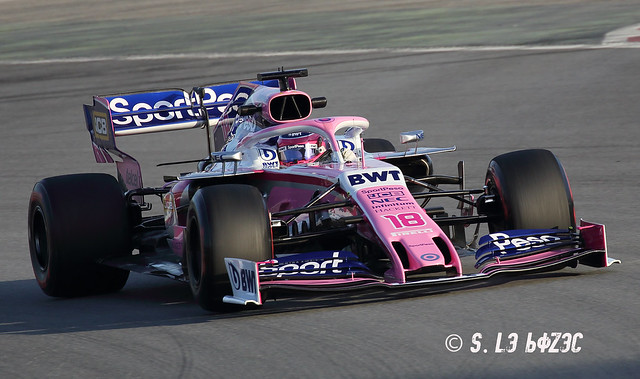F1 Car: (23, 61, 628, 312)
